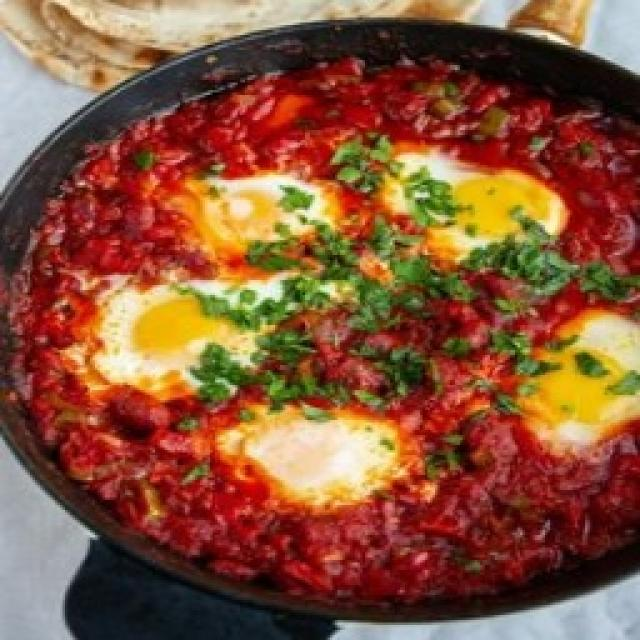Chakchouka: (0, 20, 640, 625)
